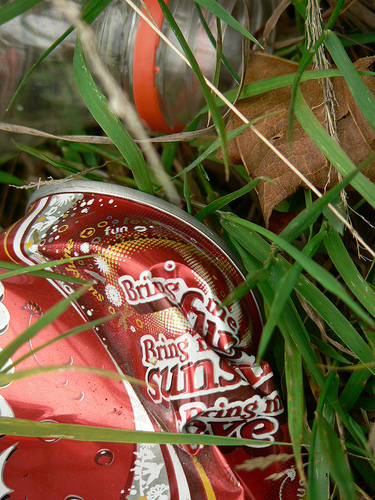litter: (0, 181, 309, 500), (0, 0, 278, 143)
